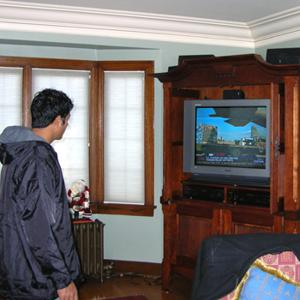person: (2, 90, 81, 300)
